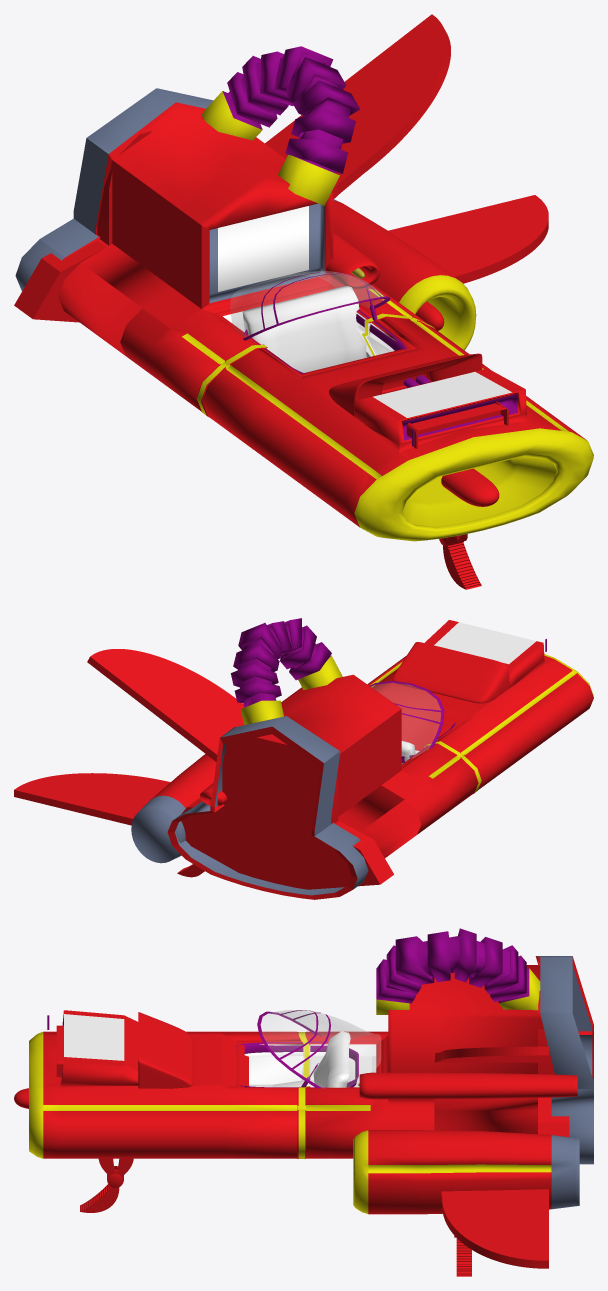
The model's file is jet.glb.
The picture shows the model from 3 angles, top to bottom: view 1: azimuth 30°, elevation 25°; view 2: azimuth 150°, elevation 25°; view 3: azimuth 270°, elevation 25°; orthographic projection. The views are drawn at different scales.
Parts seen in each view (by area): view 1: Cube.002, Cube.015, Cube.008, Cube.005, Cylinder, Cube.007, Cube.003, Cube.016, Cube.001, Cylinder.001, Cube.006, Cube.013 (+1 smaller); view 2: Cube.002, Cube.016, Cube.008, Cube.015, Cube.005, Cube.001, Cylinder, Cube.003; view 3: Cube.002, Cylinder, Cube.015, Cube.005, Cube.003, Cylinder.001, Cube.001, Cube.008, Cube.007, Cube.016, Stand, Counter (+1 smaller).
Part boxes in pixels (x1,y1,x2,y2): Cube.002: (15, 88, 593, 541); Cube.015: (201, 46, 360, 205); Cube.008: (265, 14, 450, 199); Cube.005: (388, 195, 548, 283); Cylinder: (333, 199, 476, 350); Cube.007: (242, 286, 366, 372); Cube.003: (230, 271, 390, 340); Cube.016: (14, 116, 203, 322); Cube.001: (329, 353, 482, 416); Cylinder.001: (326, 232, 380, 288); Cube.006: (441, 468, 499, 506); Cube.013: (406, 401, 508, 448); Cube.002: (167, 620, 593, 899); Cube.016: (181, 734, 393, 889); Cube.008: (87, 649, 244, 761); Cube.015: (231, 618, 342, 724); Cube.005: (14, 773, 170, 825); Cube.001: (392, 642, 509, 703); Cylinder: (131, 754, 216, 863); Cube.003: (370, 681, 444, 757); Cube.002: (29, 956, 593, 1164); Cylinder: (353, 1130, 579, 1214); Cube.015: (376, 928, 540, 1014); Cube.005: (441, 1189, 548, 1268); Cube.003: (257, 1010, 380, 1088); Cylinder.001: (359, 1072, 577, 1099); Cube.001: (138, 1012, 193, 1088); Cube.008: (434, 1046, 548, 1062); Cube.007: (313, 1031, 350, 1087); Cube.016: (538, 960, 569, 1137); Stand: (80, 1158, 133, 1212); Counter: (236, 1042, 358, 1087).
Bounding box in the file's own units: 32.04 × 21.86 × 37.84.
